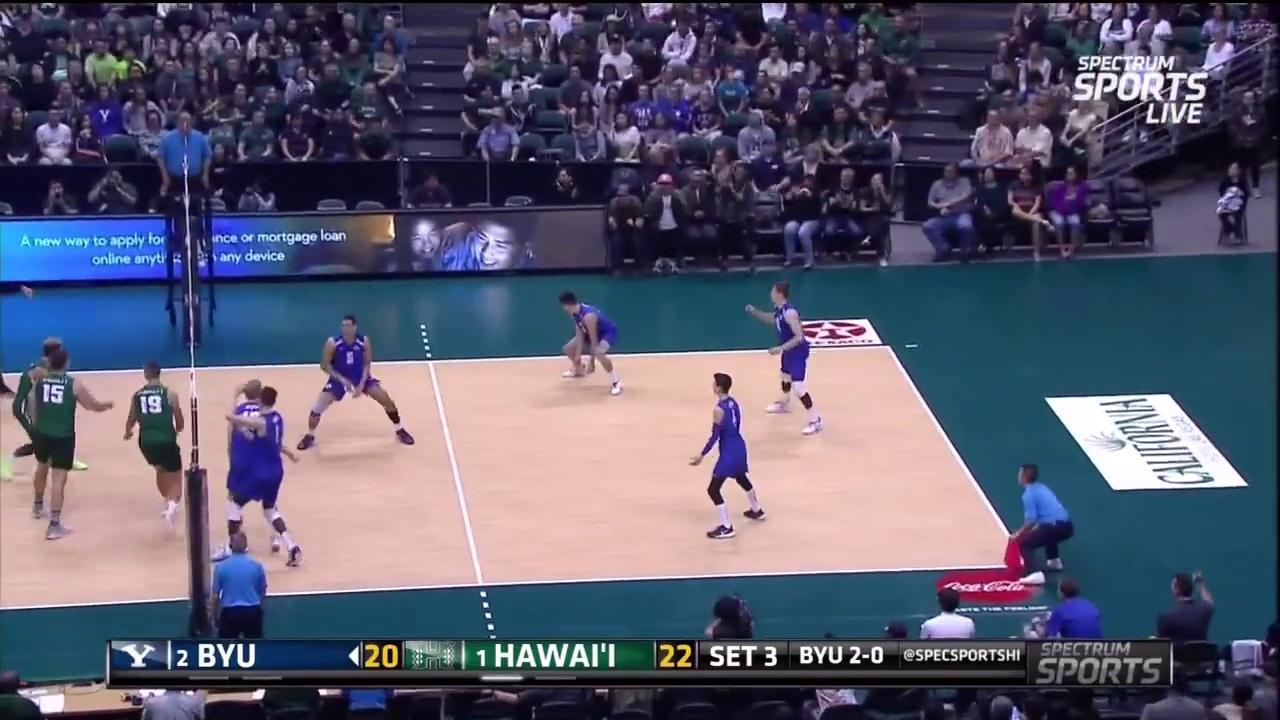player: (0, 324, 94, 479), (301, 319, 414, 446), (29, 348, 96, 547), (691, 376, 770, 534), (218, 380, 281, 557), (241, 384, 301, 567), (748, 289, 824, 431), (124, 363, 187, 529), (559, 294, 622, 394)
refree: (996, 464, 1078, 586), (196, 529, 277, 637), (155, 114, 214, 241)
